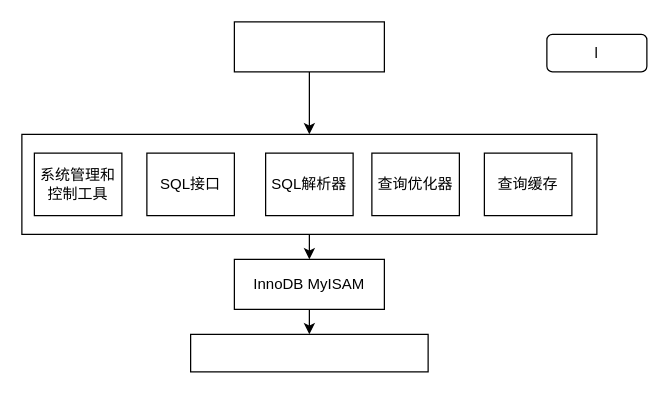
Some shapes in this 669 by 394 pixel diagram are drawn without their labels. Here are the shapes that lost their labels. From the top down, the box of each, then its label:
(233, 21, 384, 72): JDBC PHP .NET
(189, 333, 428, 372): File System
